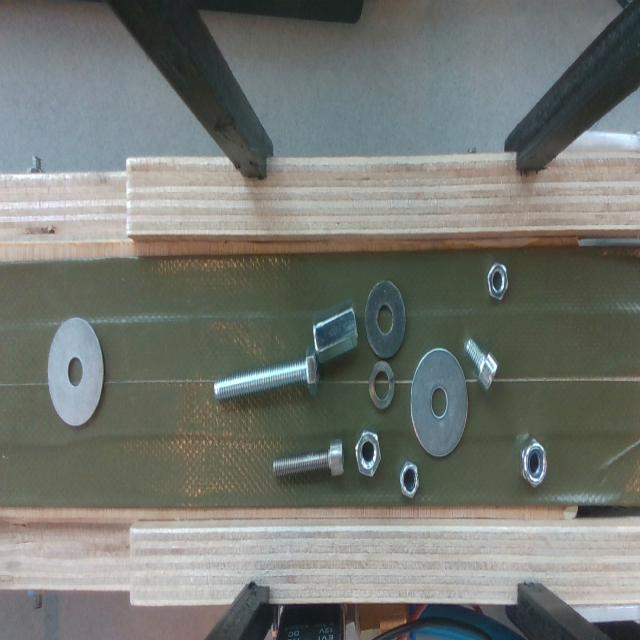Bolt: (214, 345, 319, 400), (272, 440, 344, 477), (464, 338, 498, 390)
Nut: (312, 302, 358, 363), (520, 438, 546, 488), (355, 431, 381, 475), (488, 264, 508, 299), (400, 462, 419, 498)
washer: (410, 347, 468, 457), (48, 316, 104, 426), (365, 281, 405, 359), (369, 362, 394, 409)
